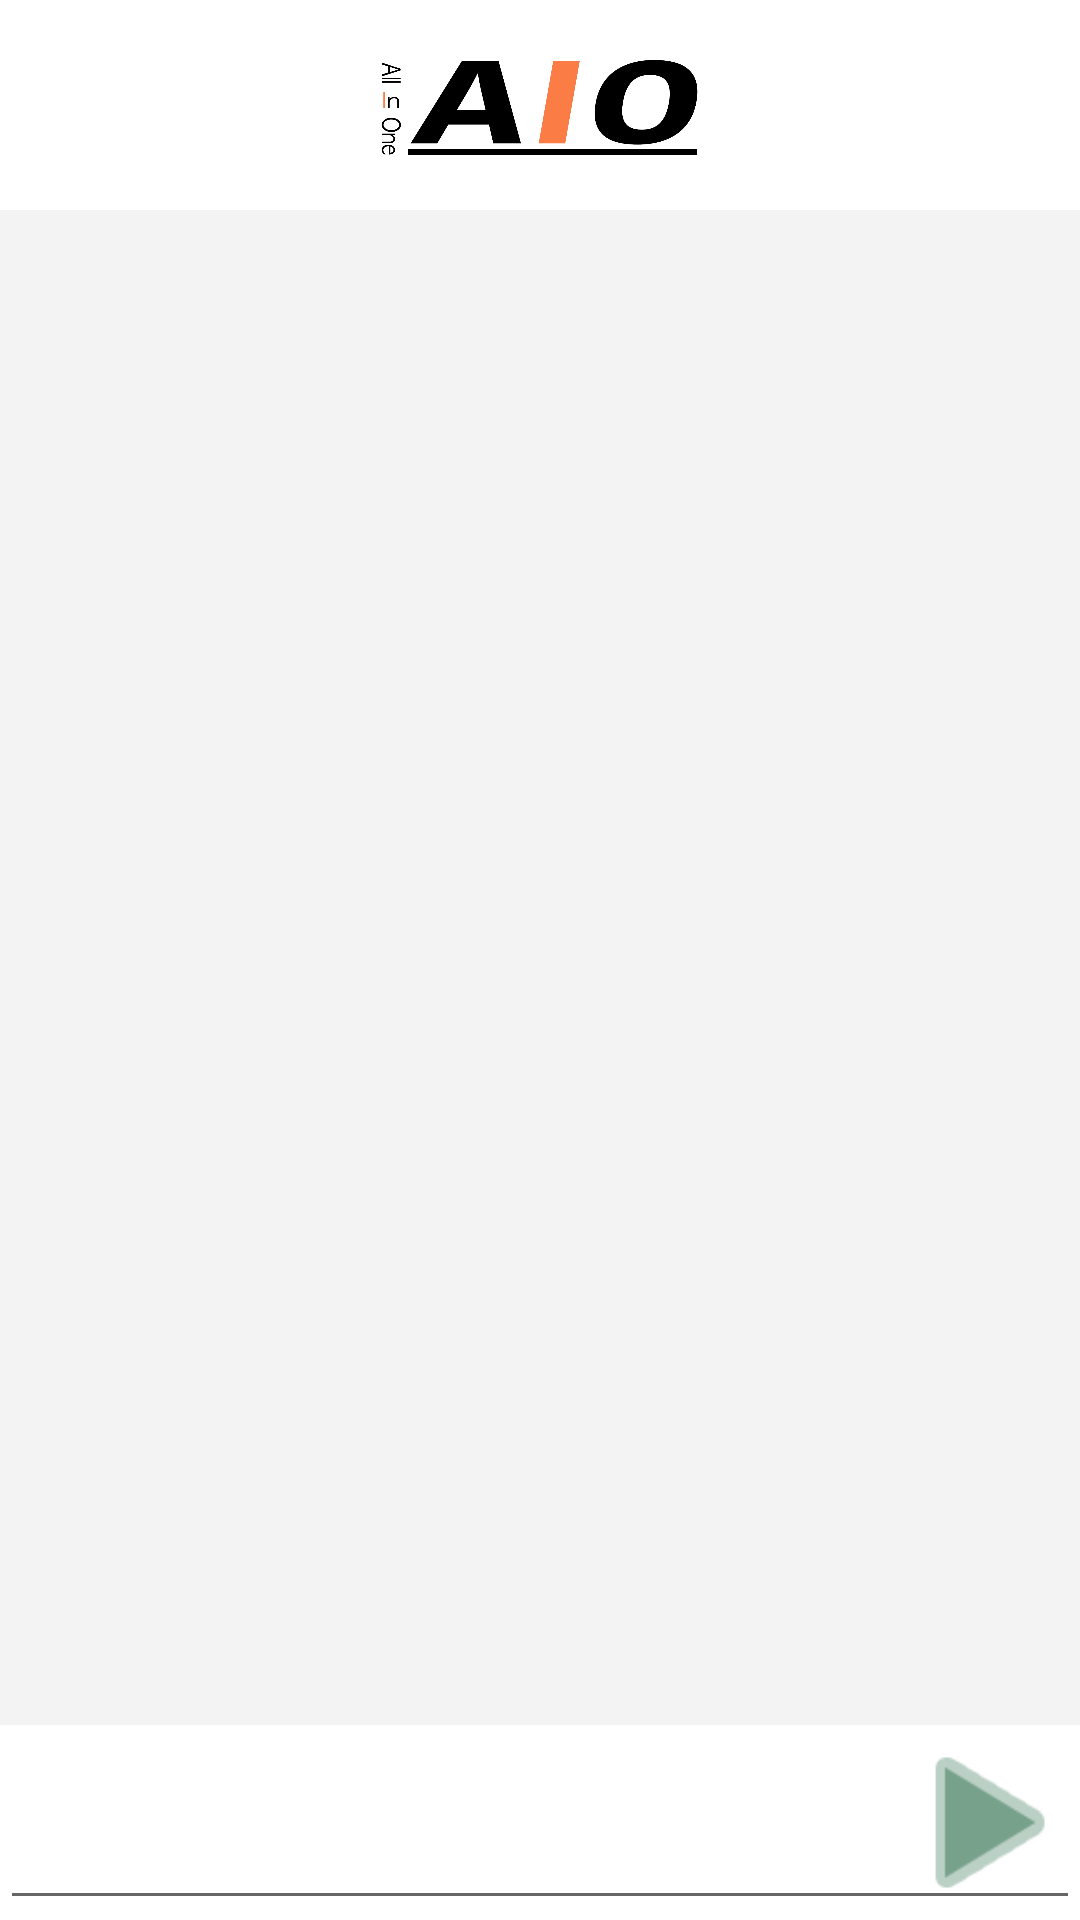

Named icons in this screenshot (1080x1920) and their bounding boxes, [x1,y1,x2,y2]:
play: [935,1757,1045,1888]
